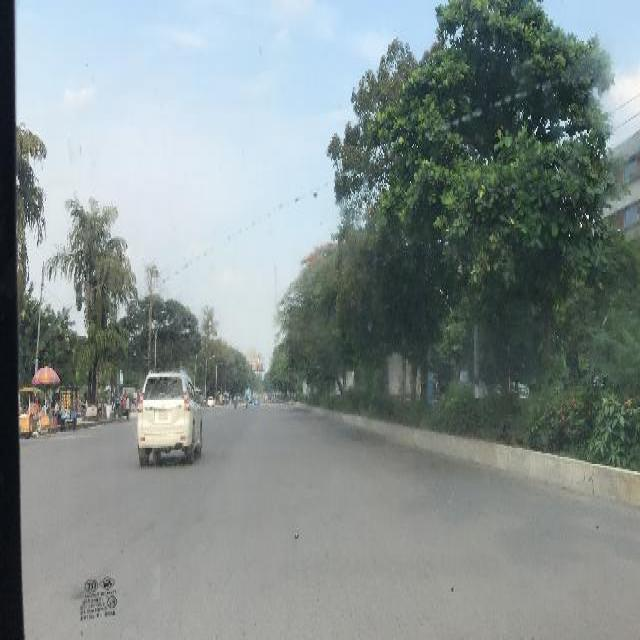bike: (232, 393, 239, 409), (244, 393, 250, 409)
vehicle: (137, 369, 204, 465), (206, 396, 216, 410)
